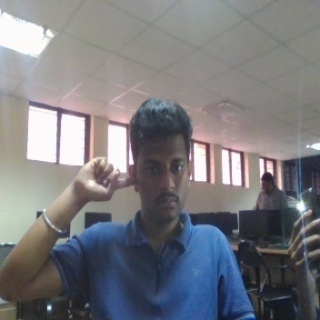Deaf: (73, 155, 136, 204)
Face: (126, 96, 195, 227)
